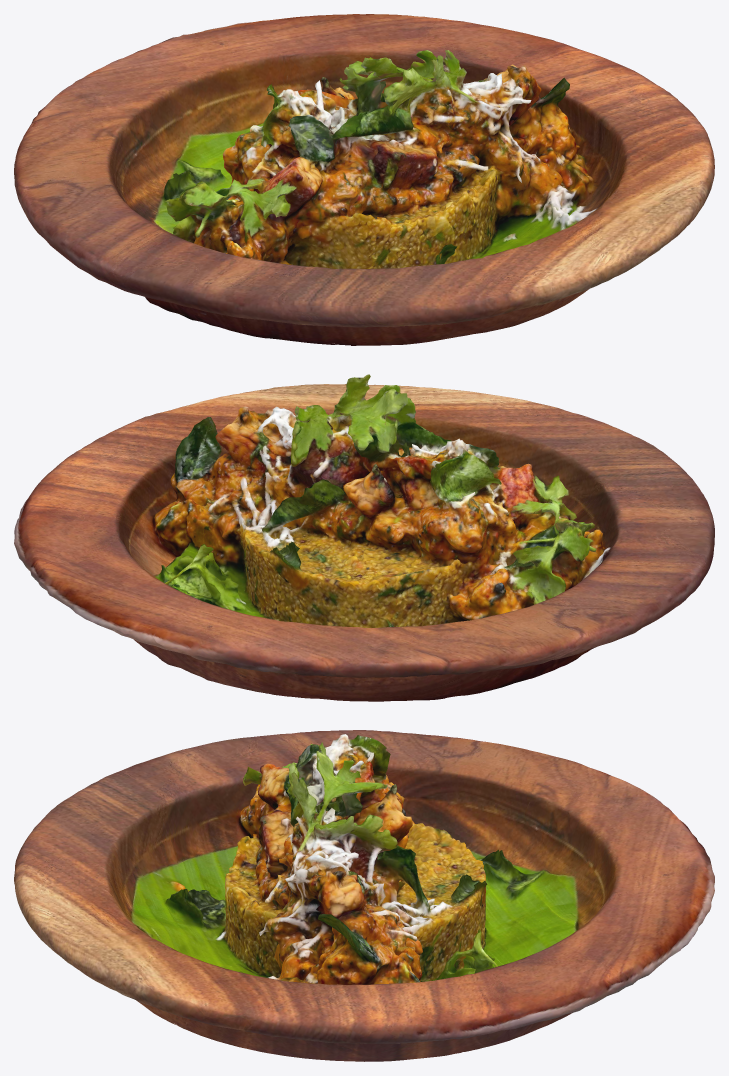
The model's file is Tempeh_Chettinadu.glb.
The picture shows the model from 3 angles, top to bottom: view 1: azimuth 30°, elevation 25°; view 2: azimuth 150°, elevation 25°; view 3: azimuth 270°, elevation 25°; orthographic projection. The views are drawn at different scales.
Parts seen in each view (by area): view 1: pCube2; view 2: pCube2; view 3: pCube2.
Part boxes in pixels (<box>): pCube2: <box>14,14,714,345</box>; pCube2: <box>14,374,714,701</box>; pCube2: <box>14,730,714,1061</box>.
Bounding box in the file's own units: 0.2729 × 0.0846 × 0.2699.
Materials: 1 (1 with a texture image).
